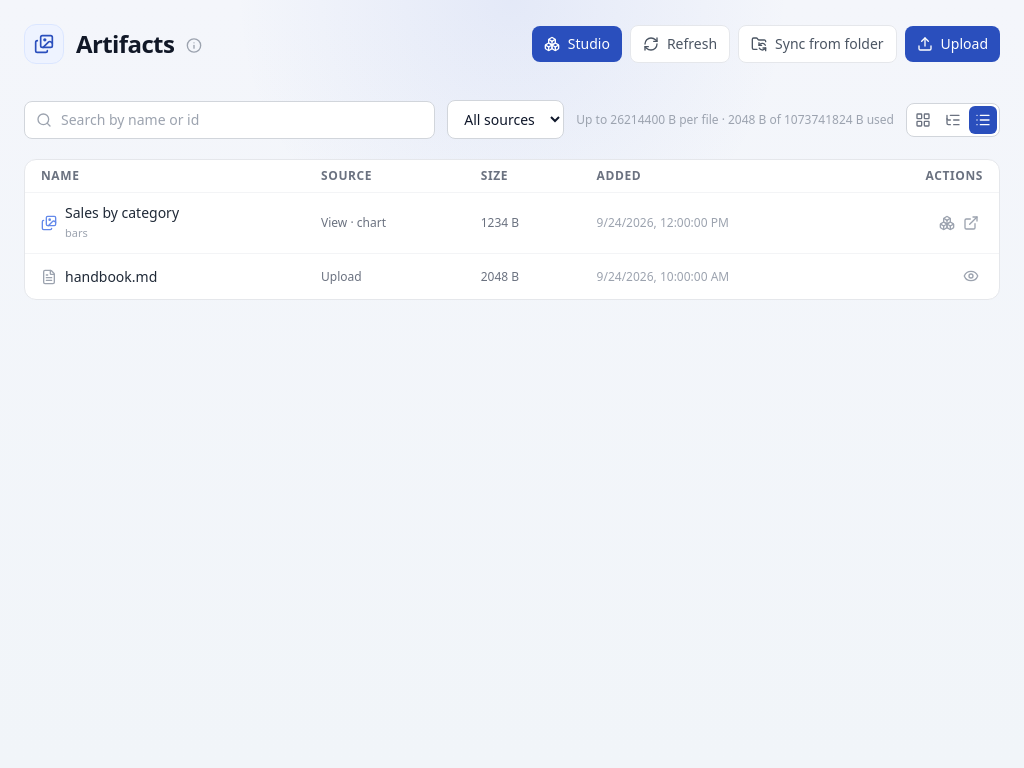
Test: Artifacts page › opens the panel from a list row and the rendered file from the preview button
Check: the text "handbook.md" is shown, box [65,266,157,286]
Click the row with test id "list-row".
click(512, 276)  # box [25,254,999,299]
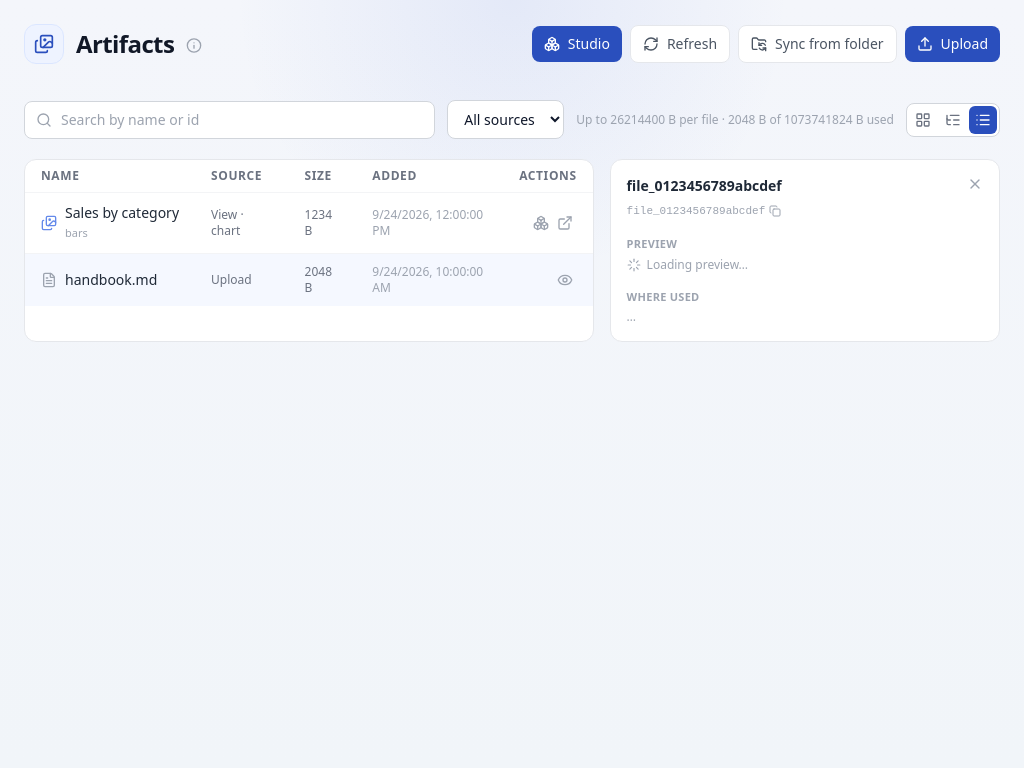
Check: the element with test id "file-panel" is shown, box [610,159,1000,342]
Click the button named "Preview".
click(565, 280)  # box [553,268,577,292]
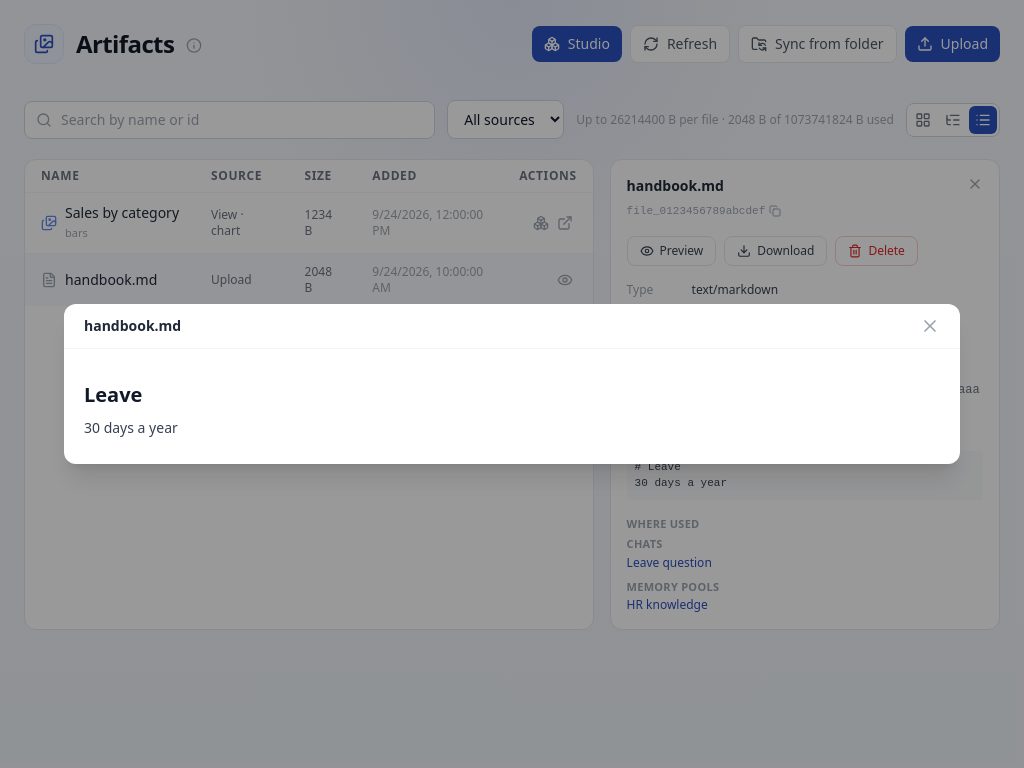
Check: the dialog with test id "file-preview-modal" shows "30 days a year", box [84,418,178,437]
Check: the heading "Leave" is shown, box [84,381,142,408]
Press Escape
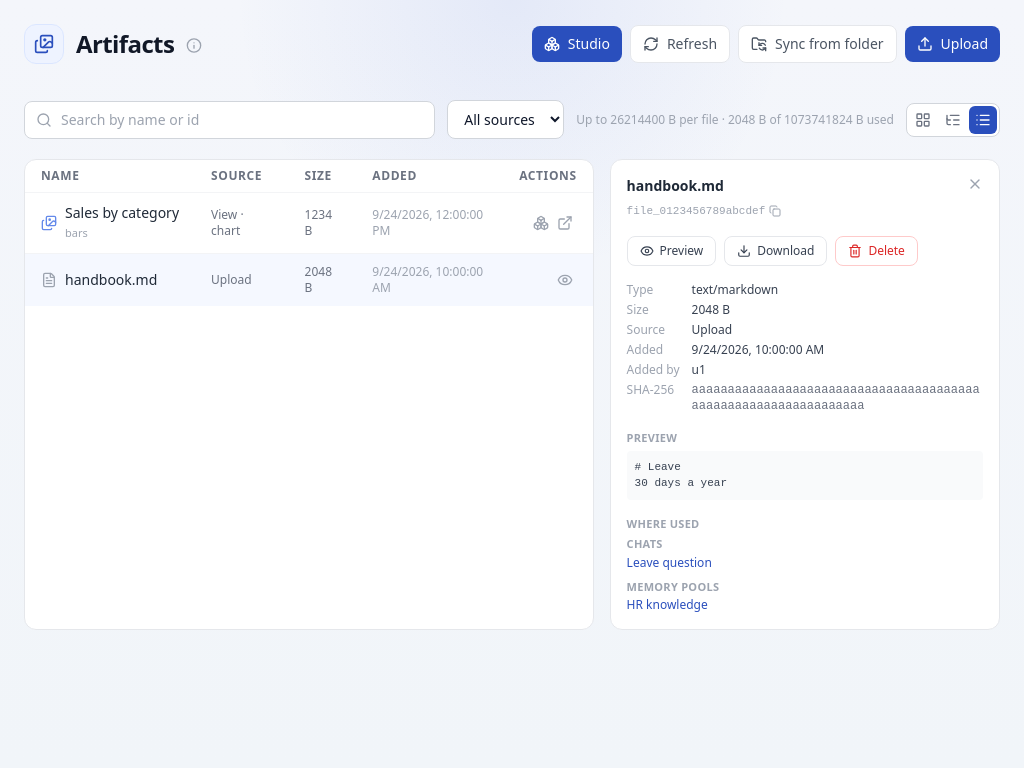
Check: the dialog with test id "file-preview-modal" is gone
